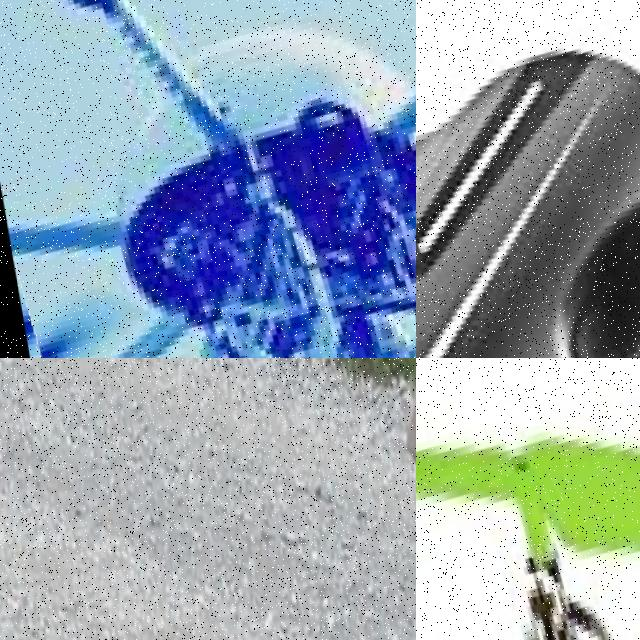drone: (0, 0, 416, 358), (416, 0, 640, 358), (416, 358, 640, 640)
